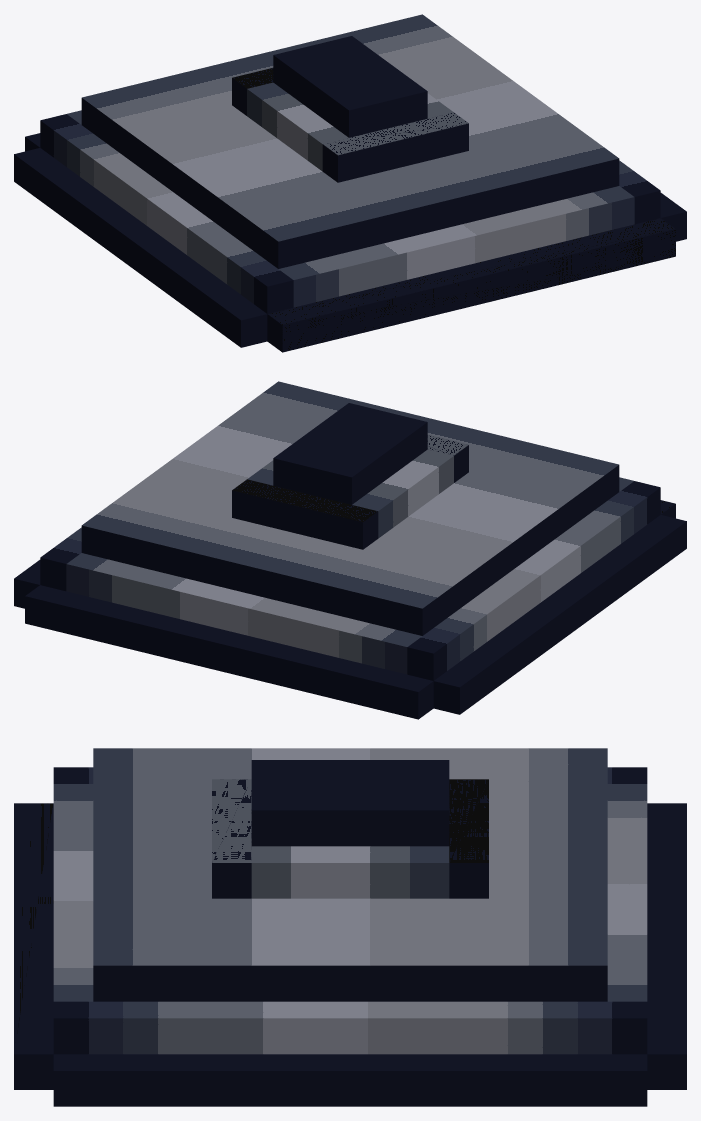
The model's file is bin-lid.glb.
3 views of the same model, one above another, from view 1: azimuth 30°, elevation 25°; view 2: azimuth 150°, elevation 25°; view 3: azimuth 270°, elevation 25° (orthographic). The views are drawn at different scales.
Parts seen in each view (by area): view 1: bin-lid-col; view 2: bin-lid-col; view 3: bin-lid-col.
Part boxes in pixels (box(x1,y1,x2,y2)): bin-lid-col: box(14, 14, 686, 352); bin-lid-col: box(14, 381, 686, 719); bin-lid-col: box(14, 748, 686, 1106).
Bounding box in the file's own units: 1.7 × 0.5 × 1.7.
1 material, 1 textured.
